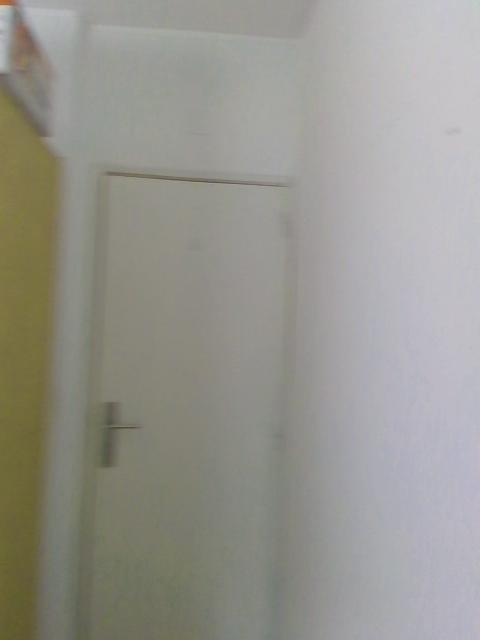closed_door: (80, 165, 288, 639)
